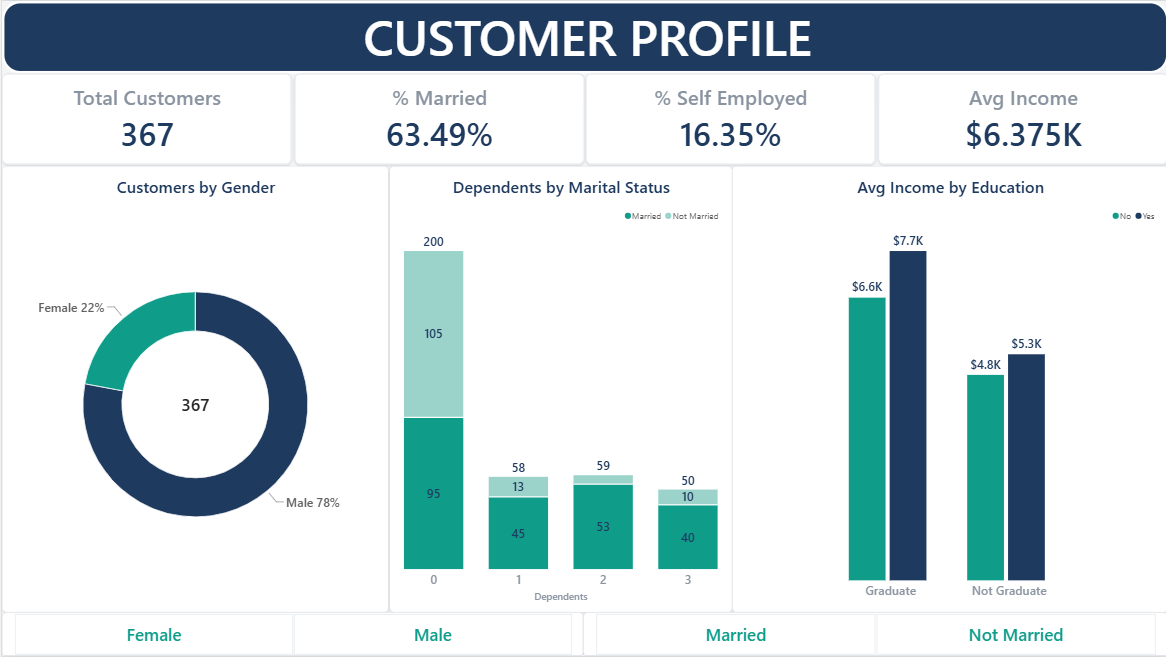

What the dashboard file says about the page in this screenshot:
{"tool":"powerbi","page":{"name":"Customer Profile","canvas":[1920,1080],"ordinal":3},"visuals":[{"type":"textbox","title":"CUSTOMER PROFILE","box":[0,0,1920.4,119.4],"z":0},{"type":"cardVisual","fields":{"Data":["Loan_Application_Analysis_367.Total Customers"]},"box":[0,119.7,477.5,150.3],"z":1},{"type":"cardVisual","fields":{"Data":["Loan_Application_Analysis_367.% Married"]},"box":[480.8,119.7,477.5,150.3],"z":2},{"type":"cardVisual","fields":{"Data":["Loan_Application_Analysis_367.% Self Employed"]},"box":[961.6,119.7,477.5,150.3],"z":3},{"type":"cardVisual","fields":{"Data":["Loan_Application_Analysis_367.Avg Income"]},"box":[1442.5,119.7,477.5,150.3],"z":4},{"type":"donutChart","title":"Customers by Gender","fields":{"Category":["Loan_Application_Analysis_367.Gender"],"Y":["Loan_Application_Analysis_367.Total Loans"]},"box":[0,271.5,637.1,735.5],"z":5},{"type":"columnChart","title":"Dependents by Marital Status","fields":{"Category":["Loan_Application_Analysis_367.Dependents"],"Series":["Loan_Application_Analysis_367.Marital Status"],"Y":["Loan_Application_Analysis_367.Total Loans"]},"box":[637.1,271.5,564.5,735.5],"z":6},{"type":"clusteredColumnChart","title":"Avg Income by Education","fields":{"Category":["Loan_Application_Analysis_367.Education"],"Series":["Loan_Application_Analysis_367.Self_Employed"],"Y":["Loan_Application_Analysis_367.Avg Income"]},"box":[1201.6,271.5,718.4,735.5],"z":7},{"type":"slicer","fields":{"Values":["Loan_Application_Analysis_367.Gender"]},"box":[0,1007,957.9,72.7],"z":8},{"type":"slicer","title":"MARRIED","fields":{"Values":["Loan_Application_Analysis_367.Marital Status"]},"box":[957.9,1007,962.1,72.7],"z":9}]}

Visuals, with their boxes in screenshot pixels (x1, y1, x2, y2), scaled from the page's 1920x1080 canvas onto the 1166x657 screenshot:
"CUSTOMER PROFILE" textbox: x1=0 y1=0 x2=1165 y2=73
cardVisual - Loan_Application_Analysis_367.Total Customers: x1=0 y1=73 x2=290 y2=164
cardVisual - Loan_Application_Analysis_367.% Married: x1=292 y1=73 x2=582 y2=164
cardVisual - Loan_Application_Analysis_367.% Self Employed: x1=584 y1=73 x2=874 y2=164
cardVisual - Loan_Application_Analysis_367.Avg Income: x1=876 y1=73 x2=1165 y2=164
"Customers by Gender" donutChart: x1=0 y1=165 x2=387 y2=613
"Dependents by Marital Status" columnChart: x1=387 y1=165 x2=730 y2=613
"Avg Income by Education" clusteredColumnChart: x1=730 y1=165 x2=1165 y2=613
slicer - Loan_Application_Analysis_367.Gender: x1=0 y1=613 x2=582 y2=656
"MARRIED" slicer: x1=582 y1=613 x2=1165 y2=656
